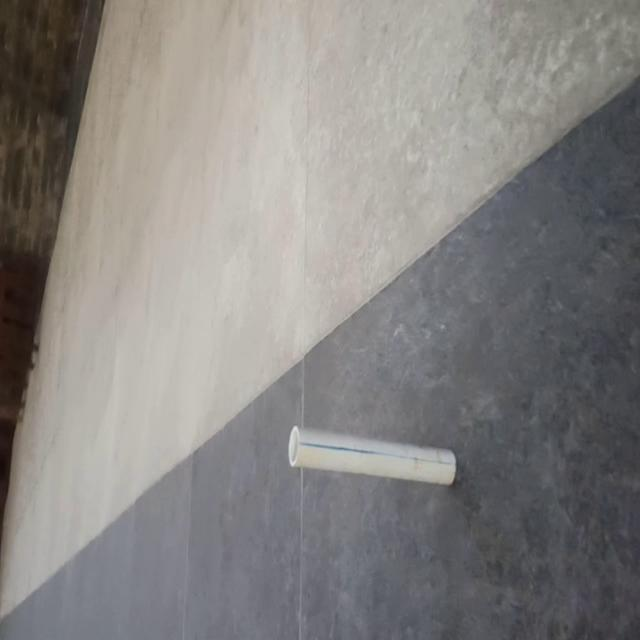Cube: (287, 423, 457, 487)
